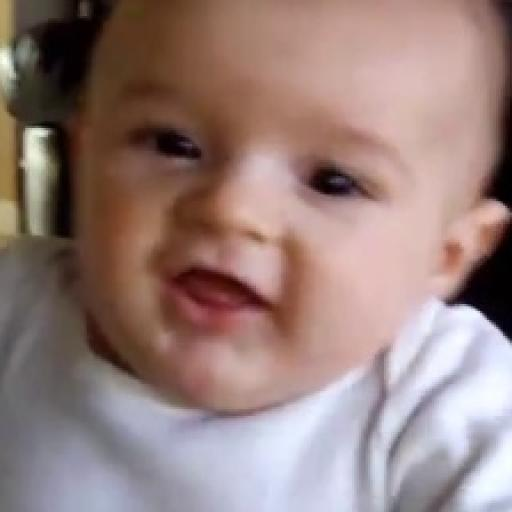Autism: (70, 5, 512, 427)
